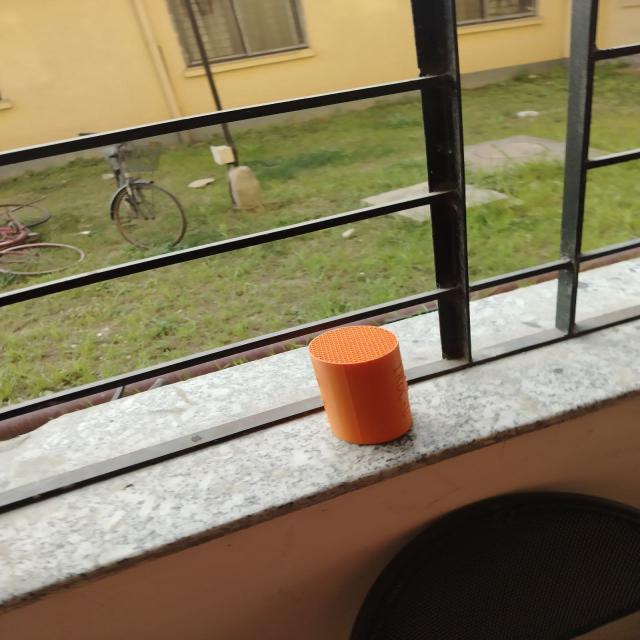Cylinder: (307, 323, 413, 445)
